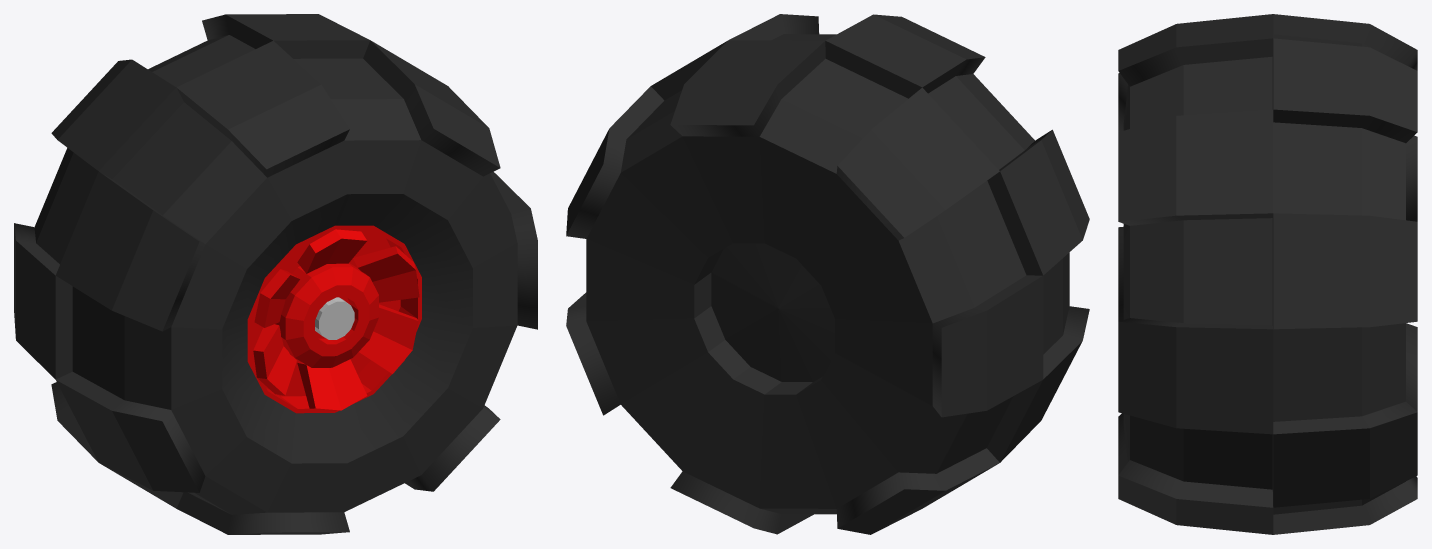
Rendered from wheel32.fbx.
The picture shows the model from 3 angles, left to right: view 1: azimuth 30°, elevation 25°; view 2: azimuth 150°, elevation 25°; view 3: azimuth 270°, elevation 25°; orthographic projection.
Parts seen in each view (by area): view 1: lanot_wheel31_L; view 2: lanot_wheel31_L; view 3: lanot_wheel31_L.
Part boxes in pixels (x1=…): lanot_wheel31_L: x1=14, y1=14, x2=537, y2=534; lanot_wheel31_L: x1=566, y1=14, x2=1089, y2=534; lanot_wheel31_L: x1=1118, y1=14, x2=1417, y2=534.
Bounding box in the file's own units: 165 × 169 × 97.13.
